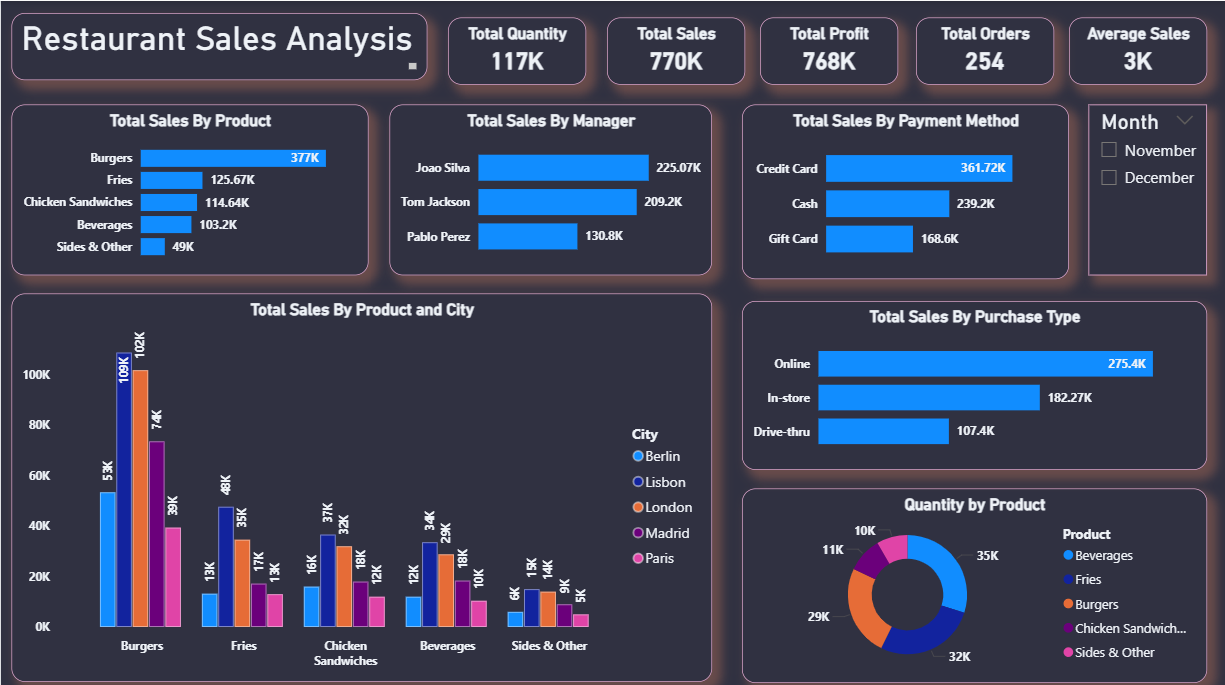

Layout of this report page (visuals, bound fields, positions):
{"tool":"powerbi","page":{"name":"Page 1","canvas":[1280,720],"ordinal":0},"visuals":[{"type":"card","title":"Total Quantity","fields":{"Values":["Resturant Sales-Data-Analysis.Quantity"]},"box":[465.8,12.5,143.8,75],"z":0},{"type":"textbox","title":"Restaurant Sales  Analysis","box":[10.9,12.5,434.5,75],"z":1000},{"type":"card","title":"Total Sales","fields":{"Values":["Resturant Sales-Data-Analysis.total_sales"]},"box":[632.1,17,143.8,70],"z":2000},{"type":"card","title":"Total Profit","fields":{"Values":["Resturant Sales-Data-Analysis.Profit"]},"box":[791.1,17,143.8,70],"z":3000},{"type":"card","title":"Total Orders","fields":{"Values":["Resturant Sales-Data-Analysis.totalorders"]},"box":[953.9,17,143.8,70],"z":4000},{"type":"card","title":"Average Sales","fields":{"Values":["Resturant Sales-Data-Analysis.avg_sales"]},"box":[1112.8,17.2,143.8,70.3],"z":5000},{"type":"clusteredBarChart","title":"Total Sales By Product","fields":{"Category":["Resturant Sales-Data-Analysis.Product"],"Y":["Resturant Sales-Data-Analysis.total_sales"]},"box":[10.9,107.8,372,178.2],"z":6000},{"type":"clusteredColumnChart","title":"Total Sales By Product and City","fields":{"Series":["Resturant Sales-Data-Analysis.City"],"Category":["Resturant Sales-Data-Analysis.Product"],"Y":["Resturant Sales-Data-Analysis.total_sales"]},"box":[10.9,304.8,729.9,404.8],"z":7000},{"type":"clusteredBarChart","title":"Total Sales By Payment Method","fields":{"Category":["Resturant Sales-Data-Analysis.Payment Method"],"Y":["Resturant Sales-Data-Analysis.total_sales"]},"box":[772.2,107.9,340.7,181.7],"z":8000},{"type":"clusteredBarChart","title":"Total Sales By Manager","fields":{"Y":["Resturant Sales-Data-Analysis.total_sales"],"Category":["Resturant Sales-Data-Analysis.Manager"]},"box":[404.8,107.8,336,178.2],"z":9000},{"type":"clusteredBarChart","title":"Total Sales By Purchase Type","fields":{"Y":["Resturant Sales-Data-Analysis.total_sales"],"Category":["Resturant Sales-Data-Analysis.Purchase Type"]},"box":[772.2,312.3,484.5,176],"z":10000},{"type":"donutChart","title":" Quantity by Product","fields":{"Y":["Resturant Sales-Data-Analysis.Quantity"],"Category":["Resturant Sales-Data-Analysis.Product"]},"box":[772.2,507.2,484.5,202.5],"z":11000},{"type":"slicer","fields":{"Values":["Resturant Sales-Data-Analysis.Date.Variation.Date Hierarchy.Month"]},"box":[1133.7,107.9,123,177.9],"z":12000}]}

Visuals, with their boxes in screenshot pixels (x1, y1, x2, y2), scaled from the page's 1280x720 canvas onto the 1225x685 screenshot:
"Total Quantity" card: crop(446, 12, 583, 83)
"Restaurant Sales  Analysis" textbox: crop(10, 12, 426, 83)
"Total Sales" card: crop(605, 16, 743, 83)
"Total Profit" card: crop(757, 16, 895, 83)
"Total Orders" card: crop(913, 16, 1051, 83)
"Average Sales" card: crop(1065, 16, 1203, 83)
"Total Sales By Product" clusteredBarChart: crop(10, 103, 366, 272)
"Total Sales By Product and City" clusteredColumnChart: crop(10, 290, 709, 675)
"Total Sales By Payment Method" clusteredBarChart: crop(739, 103, 1065, 276)
"Total Sales By Manager" clusteredBarChart: crop(387, 103, 709, 272)
"Total Sales By Purchase Type" clusteredBarChart: crop(739, 297, 1203, 465)
" Quantity by Product" donutChart: crop(739, 483, 1203, 675)
slicer - Resturant Sales-Data-Analysis.Date.Variation.Date Hierarchy.Month: crop(1085, 103, 1203, 272)
